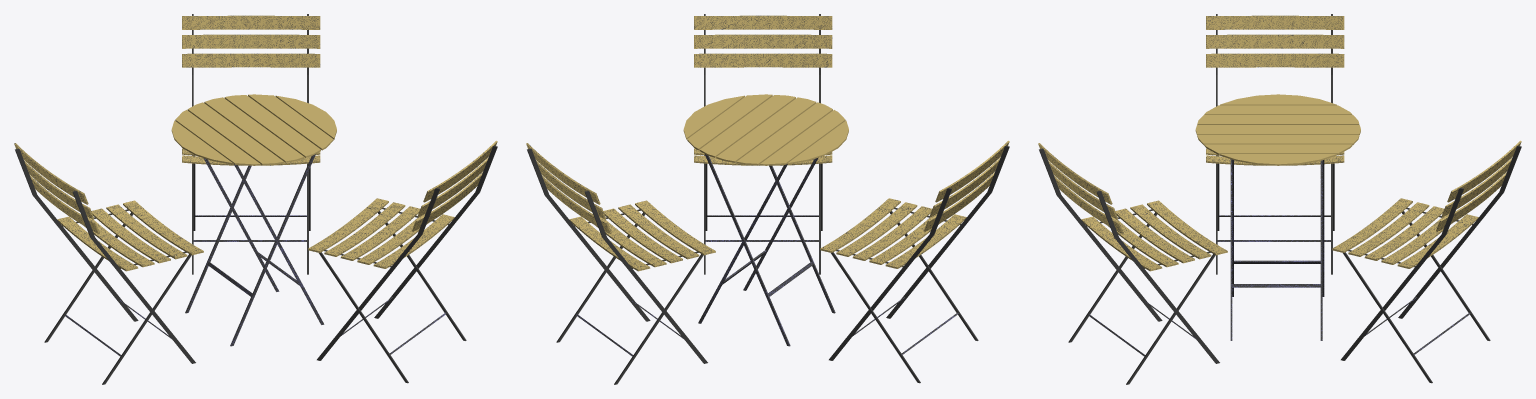
The model's file is Bistro.fbx.
3 views of the same model, side by side, from view 1: azimuth 30°, elevation 25°; view 2: azimuth 150°, elevation 25°; view 3: azimuth 270°, elevation 25° (orthographic).
Visible parts, largest first — view 1: Table_Half1, Table_Half2, Chair_Slat8, Chair_Slat1, Chair_Slat6, Group2, Chair_Leg4, Chair_Leg3, Chair_Leg5, Chair_Slat18, Chair_Slat20, Chair_Leg6 (+22 smaller); view 2: Table_Half1, Table_Half2, Chair_Slat24, Chair_Slat17, Chair_Slat22, Group2, Chair_Leg2, Chair_Leg1, Chair_Leg3, Chair_Slat10, Chair_Slat12, Chair_Leg4 (+22 smaller); view 3: Table_Half2, Table_Half1, Chair_Slat16, Chair_Slat9, Chair_Slat14, Group2, Chair_Leg6, Chair_Leg5, Chair_Leg1, Chair_Slat2, Chair_Slat4, Chair_Leg2 (+21 smaller).
Part boxes in pixels (x1,y1,x2,y2): Table_Half1: [171, 102, 283, 165]; Table_Half2: [224, 94, 336, 157]; Chair_Slat8: [182, 53, 320, 67]; Chair_Slat1: [182, 34, 320, 48]; Chair_Slat6: [182, 15, 320, 29]; Group2: [204, 97, 304, 162]; Chair_Leg4: [72, 190, 195, 363]; Chair_Leg3: [15, 148, 138, 321]; Chair_Leg5: [317, 188, 439, 360]; Chair_Slat18: [324, 202, 405, 256]; Chair_Slat20: [308, 198, 388, 252]; Chair_Leg6: [374, 145, 497, 318]; Table_Half1: [736, 102, 848, 165]; Table_Half2: [683, 94, 795, 157]; Chair_Slat24: [694, 53, 832, 67]; Chair_Slat17: [694, 34, 832, 48]; Chair_Slat22: [694, 15, 832, 29]; Group2: [716, 97, 816, 162]; Chair_Leg2: [584, 190, 707, 363]; Chair_Leg1: [527, 148, 650, 321]; Chair_Leg3: [829, 188, 951, 360]; Chair_Slat10: [836, 202, 917, 256]; Chair_Slat12: [820, 198, 900, 252]; Chair_Leg4: [886, 145, 1009, 318]; Table_Half2: [1197, 134, 1359, 165]; Table_Half1: [1197, 94, 1359, 124]; Chair_Slat16: [1206, 53, 1344, 67]; Chair_Slat9: [1206, 34, 1344, 48]; Chair_Slat14: [1206, 15, 1344, 29]; Group2: [1195, 125, 1360, 134]; Chair_Leg6: [1096, 190, 1219, 363]; Chair_Leg5: [1039, 148, 1162, 321]; Chair_Leg1: [1341, 188, 1463, 360]; Chair_Slat2: [1348, 202, 1429, 256]; Chair_Slat4: [1332, 198, 1412, 252]; Chair_Leg2: [1398, 145, 1521, 318].
Bounding box in the file's own units: 1.57 × 0.8198 × 1.78.
